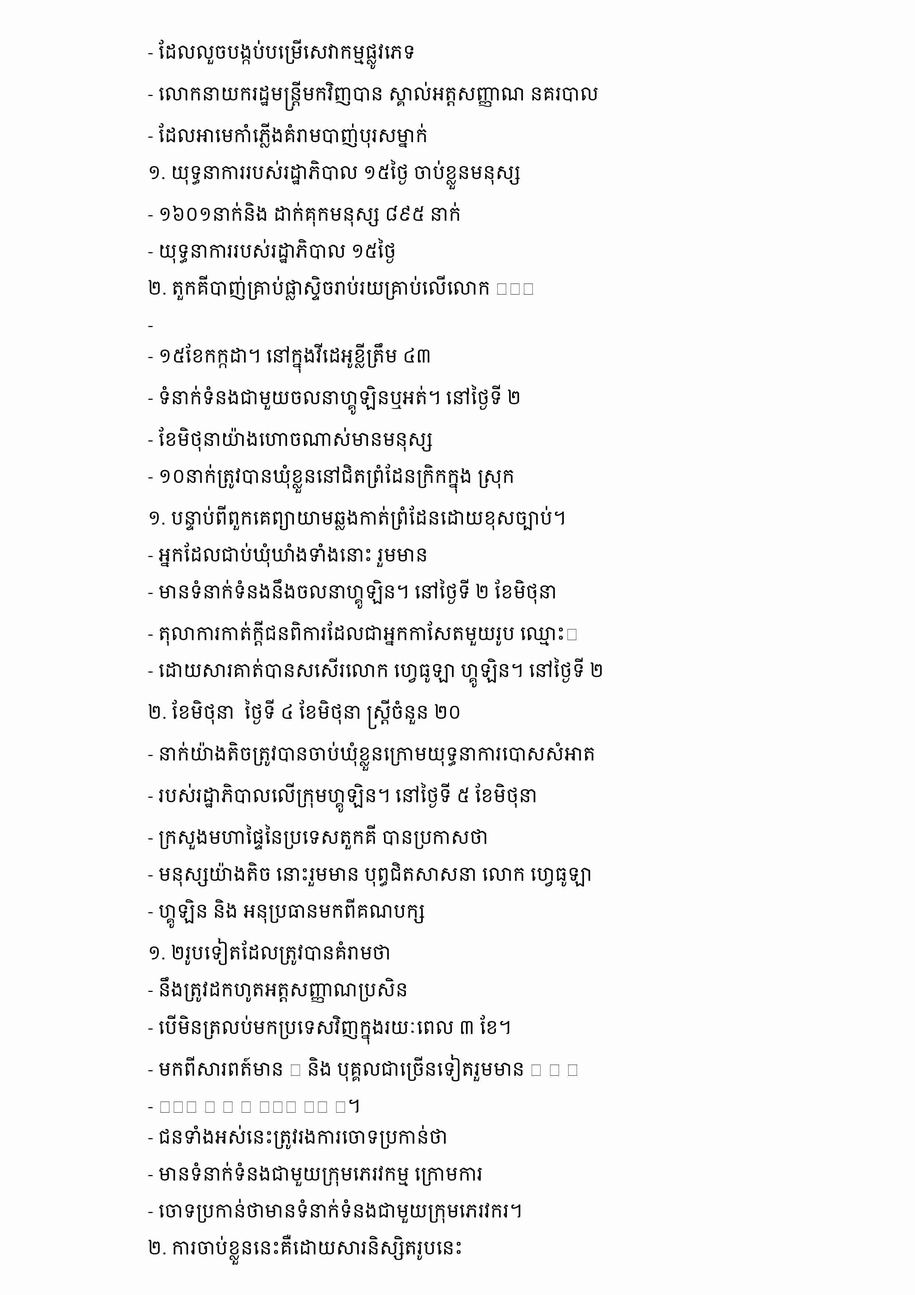text: (148, 657, 609, 688), (148, 81, 604, 111), (148, 742, 600, 771), (148, 579, 562, 609), (148, 1054, 584, 1082), (148, 783, 542, 813), (148, 159, 525, 190), (148, 1014, 517, 1045), (148, 385, 526, 415), (148, 862, 597, 887), (148, 464, 519, 494), (148, 621, 583, 646), (148, 505, 571, 530), (148, 1234, 468, 1265), (148, 275, 540, 300), (148, 699, 466, 729), (148, 1199, 527, 1223), (148, 824, 493, 850), (148, 343, 436, 373), (148, 898, 430, 928), (148, 39, 420, 69), (148, 1162, 488, 1186), (148, 202, 466, 227), (148, 1125, 453, 1150), (148, 427, 438, 452), (148, 123, 433, 148), (148, 542, 433, 567), (148, 977, 413, 1003), (148, 938, 396, 965), (148, 238, 401, 264), (148, 1099, 366, 1113), (148, 326, 158, 332)
